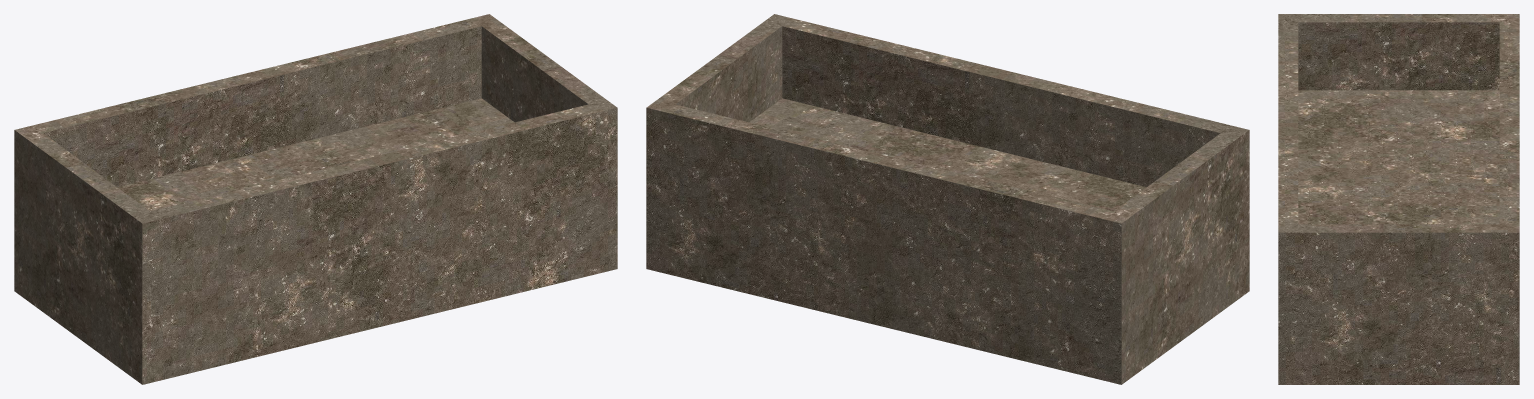
File: mdl_franch_Meta_Drawer.gltf
3 views of the same model, side by side, from view 1: azimuth 30°, elevation 25°; view 2: azimuth 150°, elevation 25°; view 3: azimuth 270°, elevation 25° (orthographic). The views are drawn at different scales.
Parts seen in each view (by area): view 1: DRAWER; view 2: DRAWER; view 3: DRAWER.
Boxes of the visible parts, x1=… form: DRAWER: x1=14, y1=14, x2=617, y2=384; DRAWER: x1=646, y1=14, x2=1249, y2=384; DRAWER: x1=1278, y1=14, x2=1519, y2=384.
Size of the model in its own units: 1.63 by 0.5292 by 0.7608.
1 material, 1 textured.
